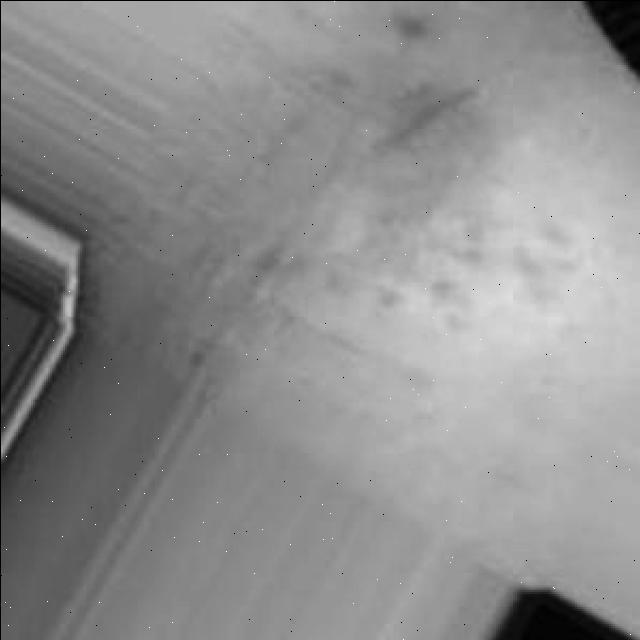Shingles: (306, 60, 579, 331)
